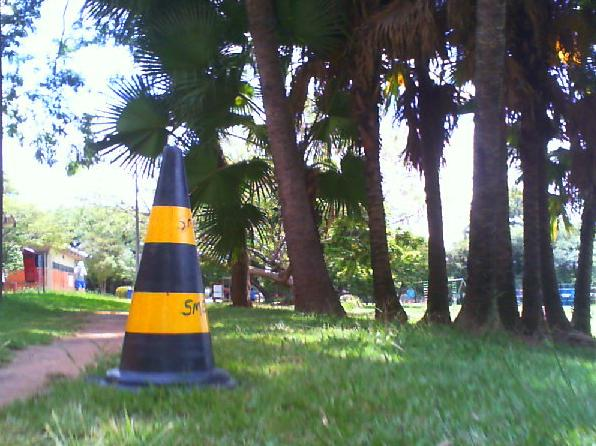0 cone: (87, 146, 244, 393)
